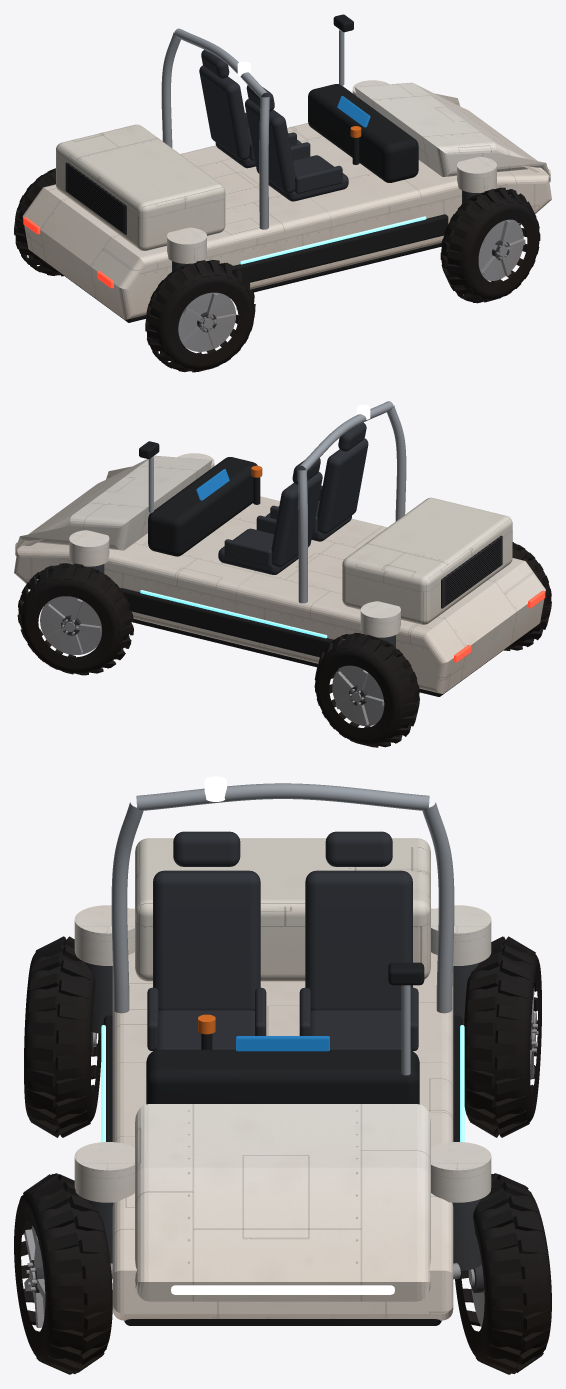
The model's file is mrv.glb.
3 views of the same model, one above another, from view 1: azimuth 30°, elevation 25°; view 2: azimuth 150°, elevation 25°; view 3: azimuth 270°, elevation 25° (orthographic). The views are drawn at different scales.
Parts seen in each view (by area): view 1: body_tub, battery_pack, tire (×3), nose_fairing, tread (×3), dash, seat_back (×2), side_skirt, rim_face (×2), motor_cap (×2), roll_hoop (×2), battery_vent (+8 smaller); view 2: body_tub, battery_pack, tire (×3), nose_fairing, tread (×3), dash, seat_back (×2), side_skirt, rim_face (×2), motor_cap (×2), roll_hoop (×2), battery_vent (+8 smaller); view 3: nose_fairing, tread (×4), seat_back (×2), tire (×4), body_tub, battery_pack, dash, motor_cap (×4), roll_hoop (×2), seat_base (×2), headrest (×2), roll_hoop_top (+9 smaller).
Boxes of the visible parts, box(x1,y1,x2,y2) form: body_tub: box(22, 123, 551, 319); battery_pack: box(56, 124, 225, 250); tire (×3): box(15, 172, 539, 370); nose_fairing: box(354, 82, 550, 182); tread (×3): box(14, 168, 540, 372); dash: box(308, 84, 418, 182); seat_back (×2): box(199, 65, 295, 193); side_skirt: box(231, 214, 448, 282); rim_face (×2): box(178, 219, 523, 351); motor_cap (×2): box(167, 157, 496, 263); roll_hoop (×2): box(161, 32, 269, 229); battery_vent: box(65, 162, 126, 234); body_tub: box(14, 496, 545, 693); battery_pack: box(342, 497, 512, 624); tire (×3): box(20, 542, 551, 745); nose_fairing: box(15, 455, 212, 555); tread (×3): box(17, 542, 551, 747); dash: box(148, 457, 257, 556); seat_back (×2): box(271, 438, 368, 567); side_skirt: box(120, 588, 333, 657); rim_face (×2): box(40, 596, 384, 726); motor_cap (×2): box(69, 530, 400, 637); roll_hoop (×2): box(297, 405, 406, 603); battery_vent: box(441, 535, 502, 608); nose_fairing: box(135, 1104, 430, 1301); tread (×4): box(19, 936, 550, 1374); seat_back (×2): box(153, 870, 412, 1010); tire (×4): box(14, 948, 551, 1364); body_tub: box(112, 908, 453, 1320); battery_pack: box(135, 838, 430, 981); dash: box(146, 1049, 419, 1104); motor_cap (×4): box(74, 905, 491, 1202); roll_hoop (×2): box(111, 802, 454, 1013); seat_base (×2): box(154, 1010, 411, 1050); headrest (×2): box(173, 831, 392, 866); roll_hoop_top: box(136, 783, 429, 810).
Bounding box in the file's own units: 3.82 × 2.07 × 2.4.
Materials: 13 (3 with a texture image).
